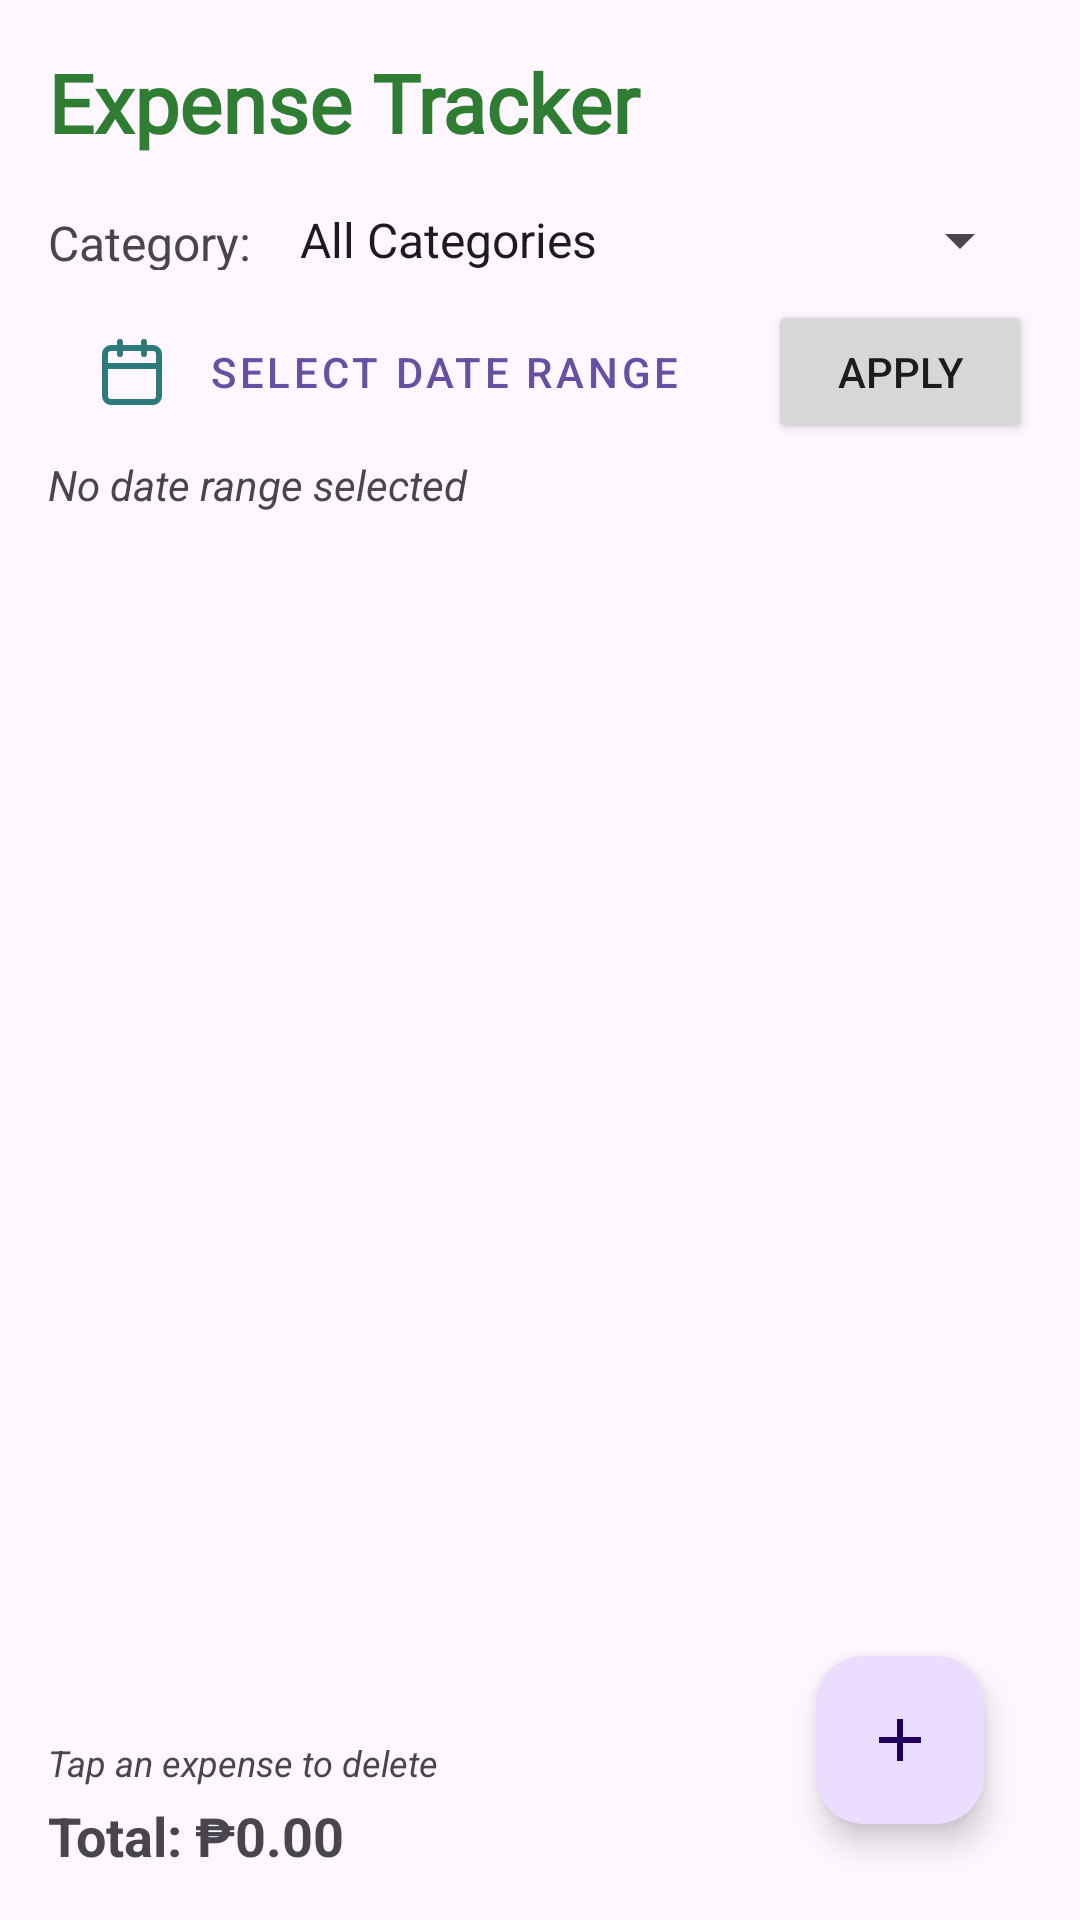

Named icons in this screenshot (1080*1920) and their bounding boxes, box(x1, y1, x2, y2):
Add Expense: box(816, 1656, 984, 1824)
